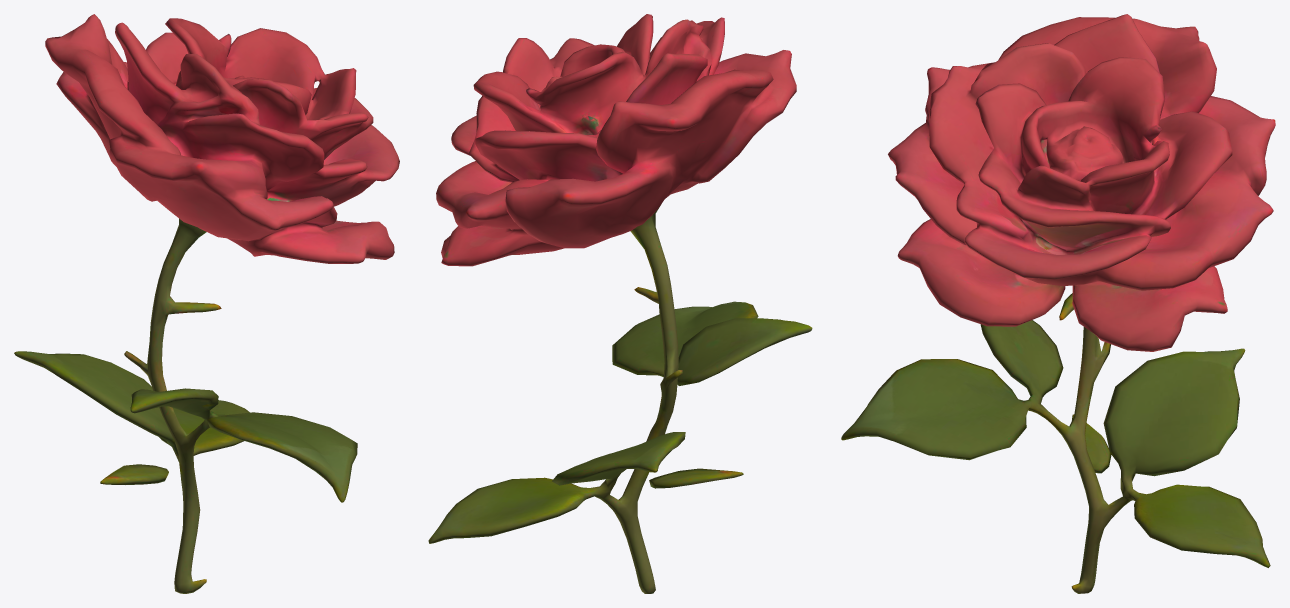
The model's file is tripo_convert_5b854d89-9172-4134-8939-799a29ef19ed.glb.
3 renders of one model, left to right at view 1: azimuth 30°, elevation 25°; view 2: azimuth 150°, elevation 25°; view 3: azimuth 270°, elevation 25°, orthographic.
Parts seen in each view (by area): view 1: tripo_node_5b854d89-9172-4134-8939-799a29ef19ed; view 2: tripo_node_5b854d89-9172-4134-8939-799a29ef19ed; view 3: tripo_node_5b854d89-9172-4134-8939-799a29ef19ed.
Boxes of the visible parts, x1,y1,x2,y2 form: tripo_node_5b854d89-9172-4134-8939-799a29ef19ed: [14, 14, 399, 593]; tripo_node_5b854d89-9172-4134-8939-799a29ef19ed: [428, 14, 812, 593]; tripo_node_5b854d89-9172-4134-8939-799a29ef19ed: [841, 14, 1275, 593].
Bounding box in the file's own units: 0.5192 × 0.9331 × 0.6581.
1 material, 1 textured.
